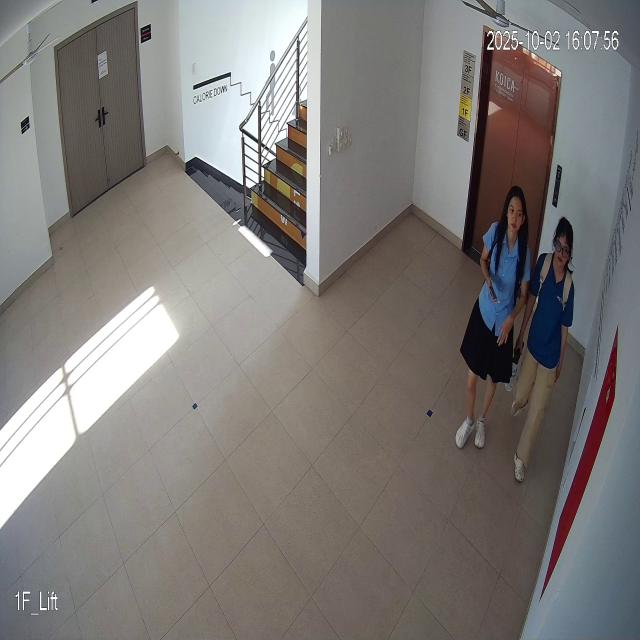face: (501, 185, 528, 245), (548, 218, 577, 269)
